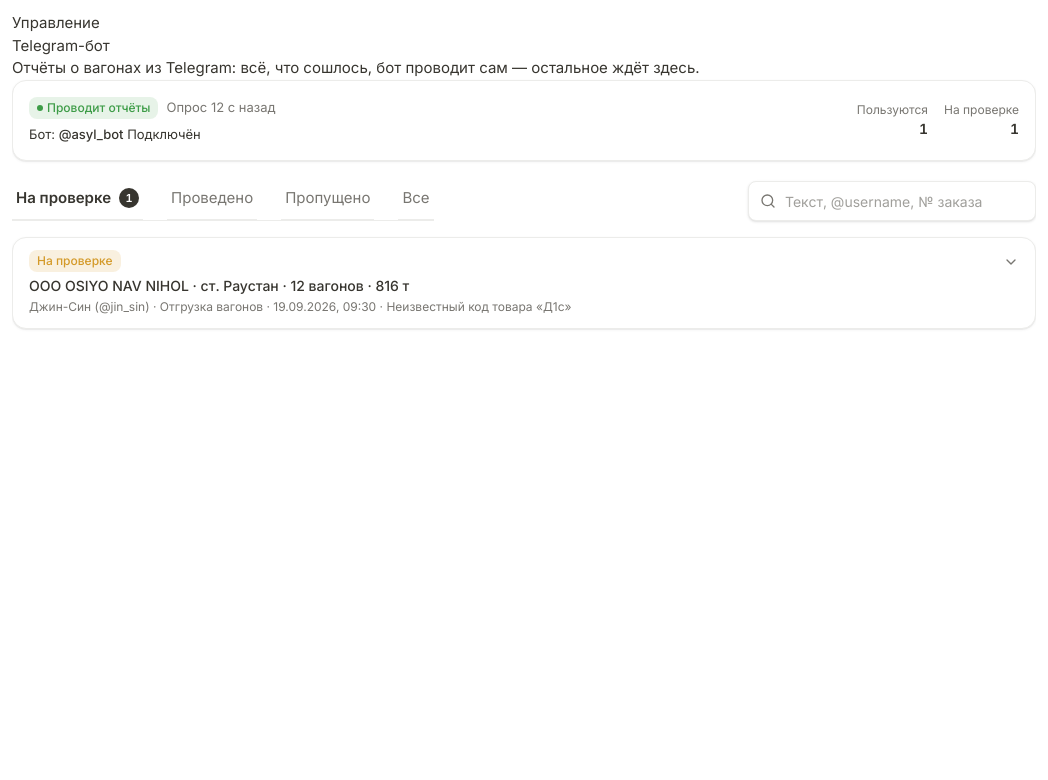
Telegram-бот: журнал › ignore applies the answer; errors stay in the row
This screenshot has width=1048, height=780.
What coordinates should you click on to do the following:
click the button
I would click on:
 (75, 261)
Its box is 13,238 -> 1035,328.
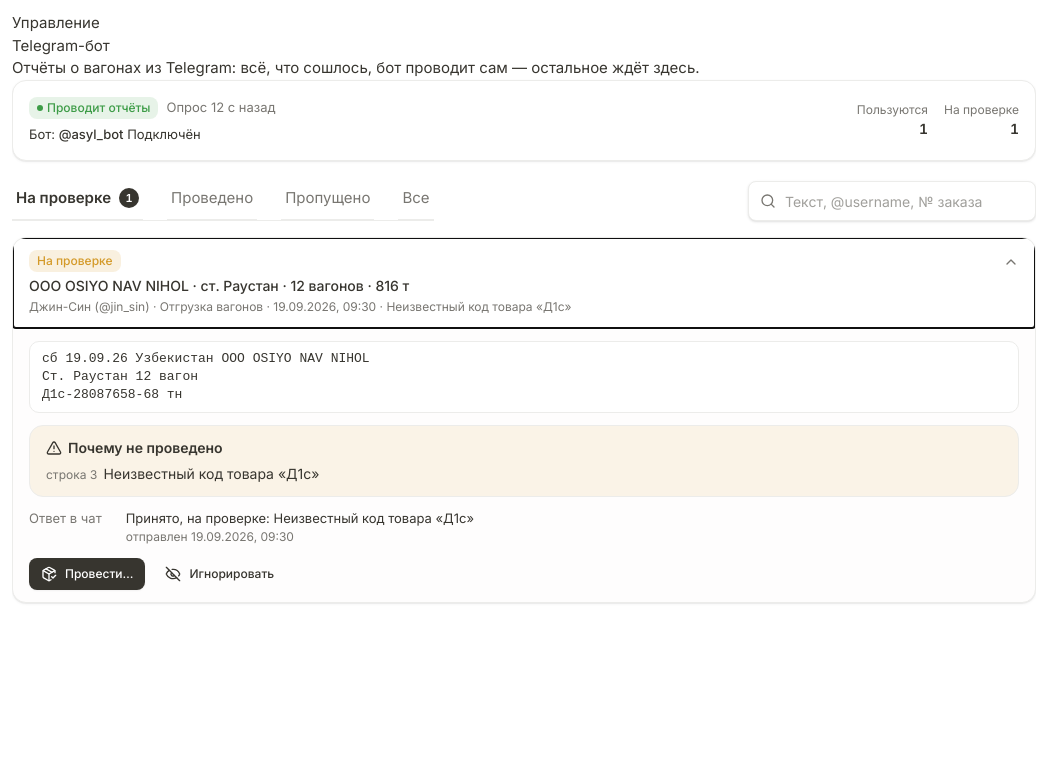
What coordinates should you click on to do the following:
click the button "Игнорировать"
I would click on:
 (220, 574)
Its box is 154,558 -> 286,590.
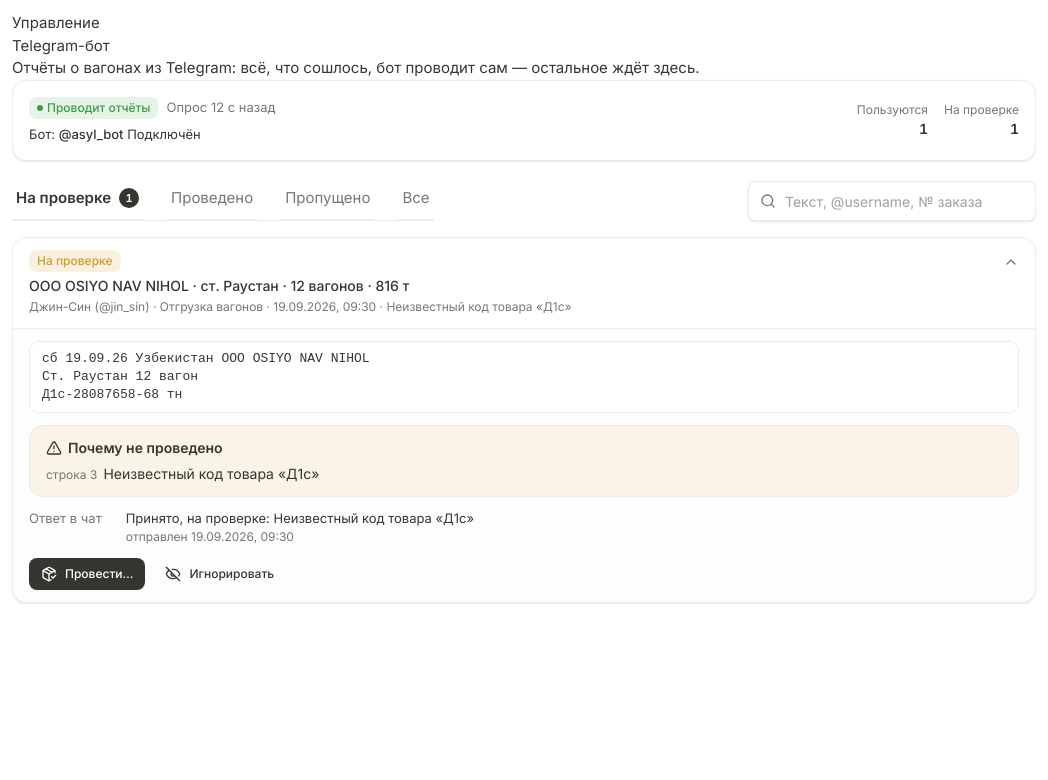
What coordinates should you click on to do the following:
click the button "Игнорировать"
I would click on:
 (220, 574)
Its box is 154,558 -> 286,590.
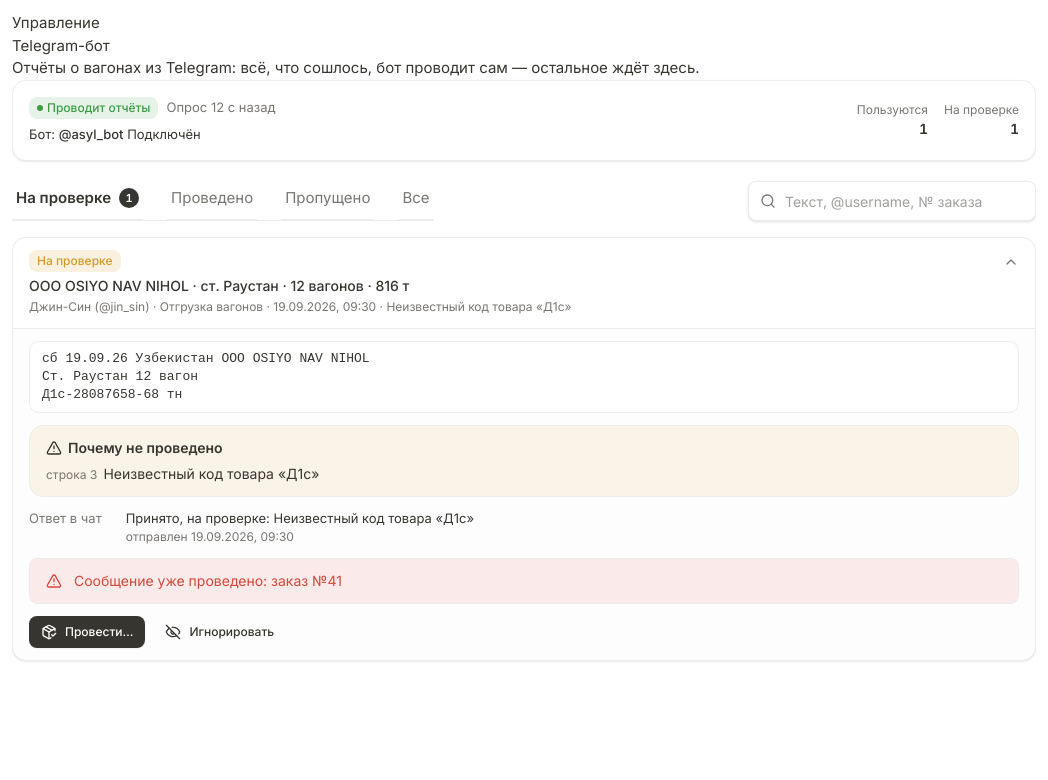
Now the text "Сообщение уже проведено: заказ №41" is shown, box 74,571 -> 342,591
